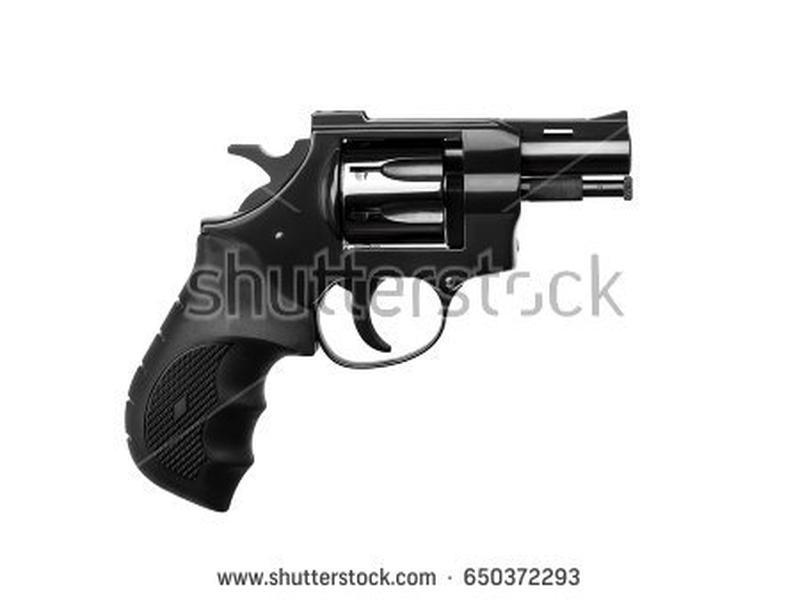Revolver: (164, 79, 655, 394)
